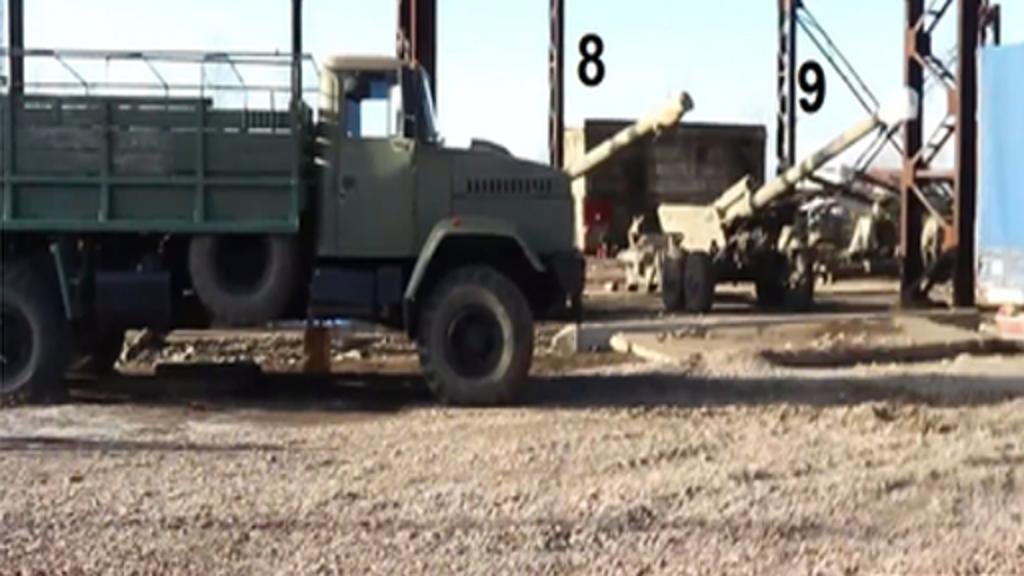ART: (652, 86, 920, 308)
TRUCK: (0, 46, 590, 406)
